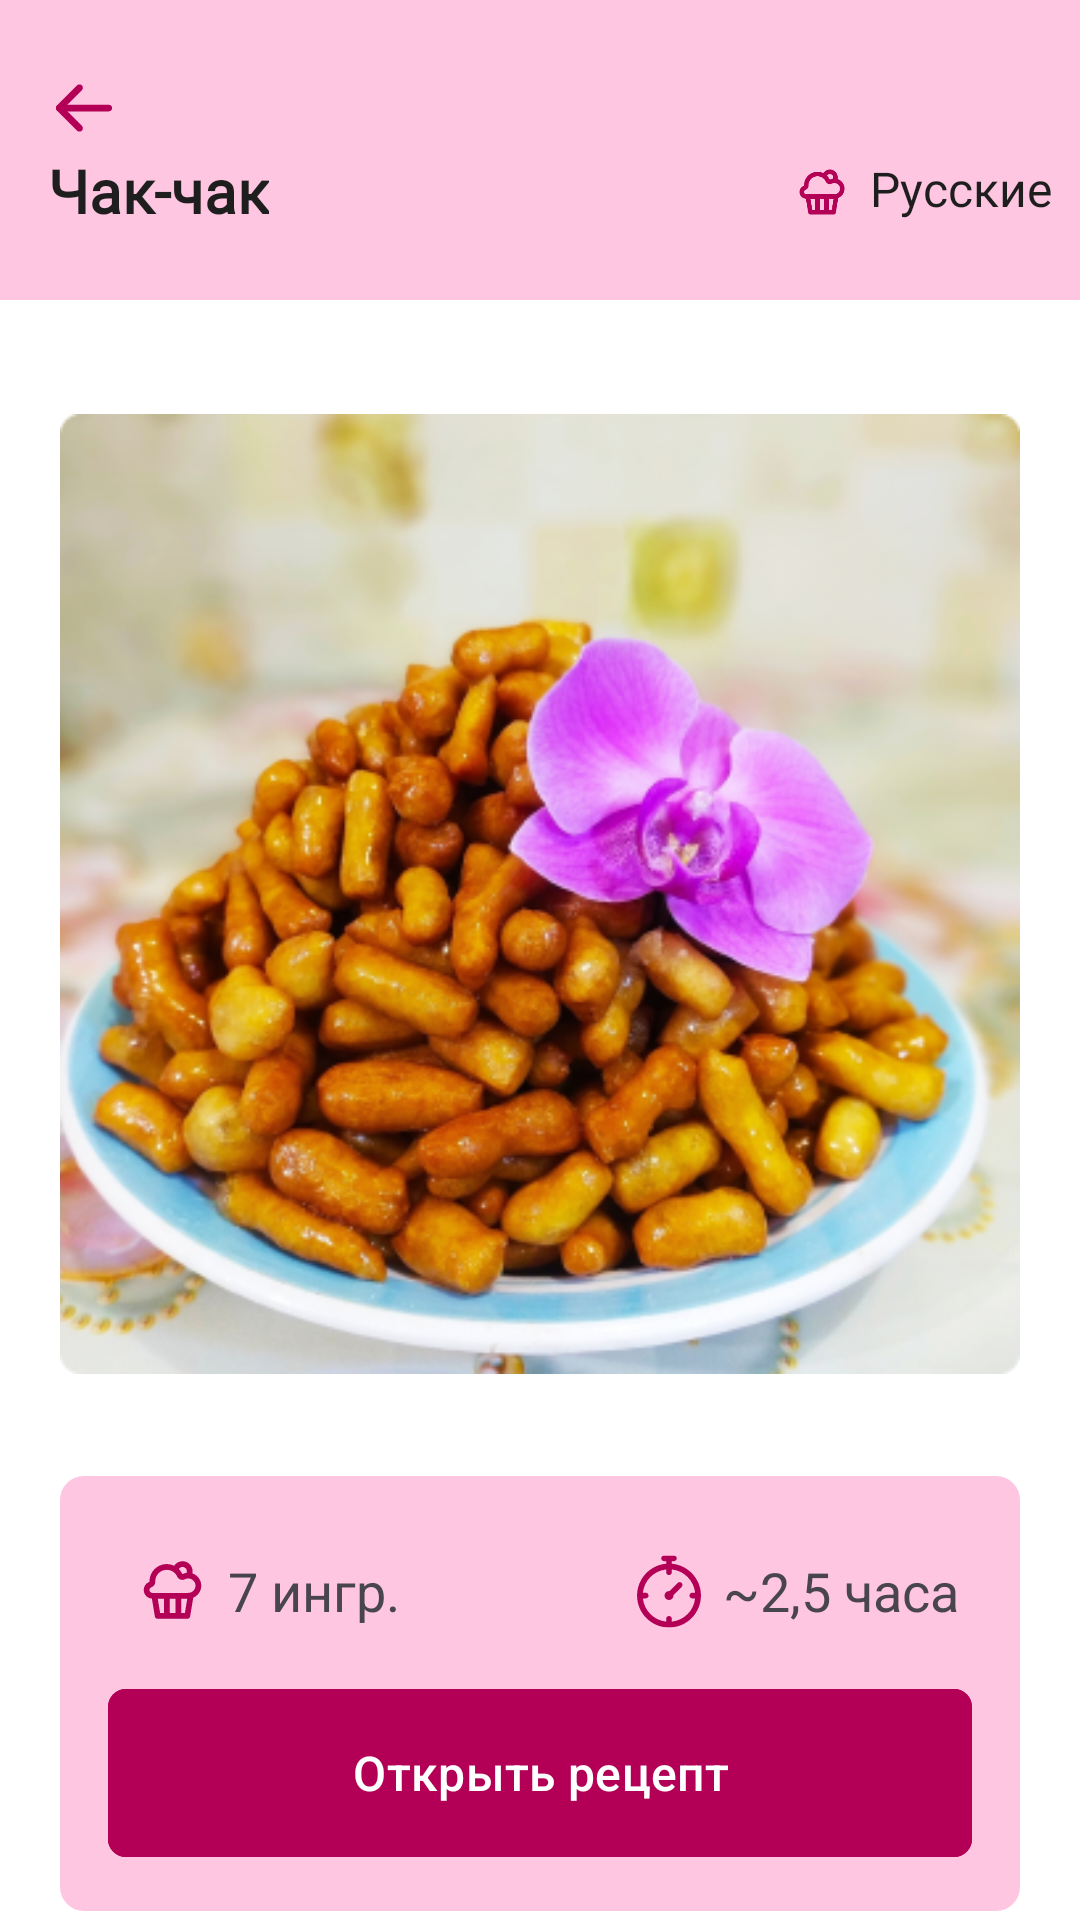

Screen size 1080px x 1920px. Icon name, then its center in pixels as point (x, y):
cake: point (172, 1590)
second back: point (84, 108)
timer: point (669, 1591)
